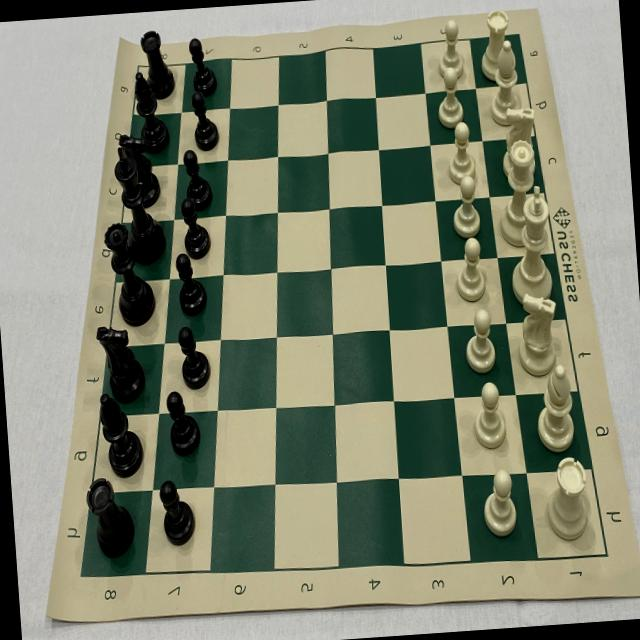black-bishop: (96, 390, 144, 477), (130, 67, 168, 155)
black-king: (110, 148, 166, 266)
black-knight: (94, 320, 148, 400), (114, 130, 162, 210)
black-pawn: (162, 386, 207, 460), (155, 478, 198, 550), (177, 322, 216, 389), (174, 251, 212, 317), (178, 147, 214, 212), (178, 197, 212, 262), (188, 89, 219, 152), (188, 34, 218, 98)
black-queen: (100, 215, 156, 330)
black-rook: (84, 475, 138, 561), (138, 22, 178, 104)
white-bishop: (530, 362, 580, 454), (485, 38, 525, 126)
white-king: (505, 182, 560, 308)
white-knight: (515, 289, 564, 376), (495, 104, 541, 180)
white-pawn: (478, 467, 524, 539), (471, 381, 511, 454), (462, 306, 499, 376), (452, 235, 489, 304), (447, 173, 483, 237), (446, 120, 479, 187), (435, 66, 468, 132), (435, 15, 468, 80)
white-queen: (493, 138, 542, 250)
white-rook: (543, 454, 594, 544), (476, 3, 516, 82)
